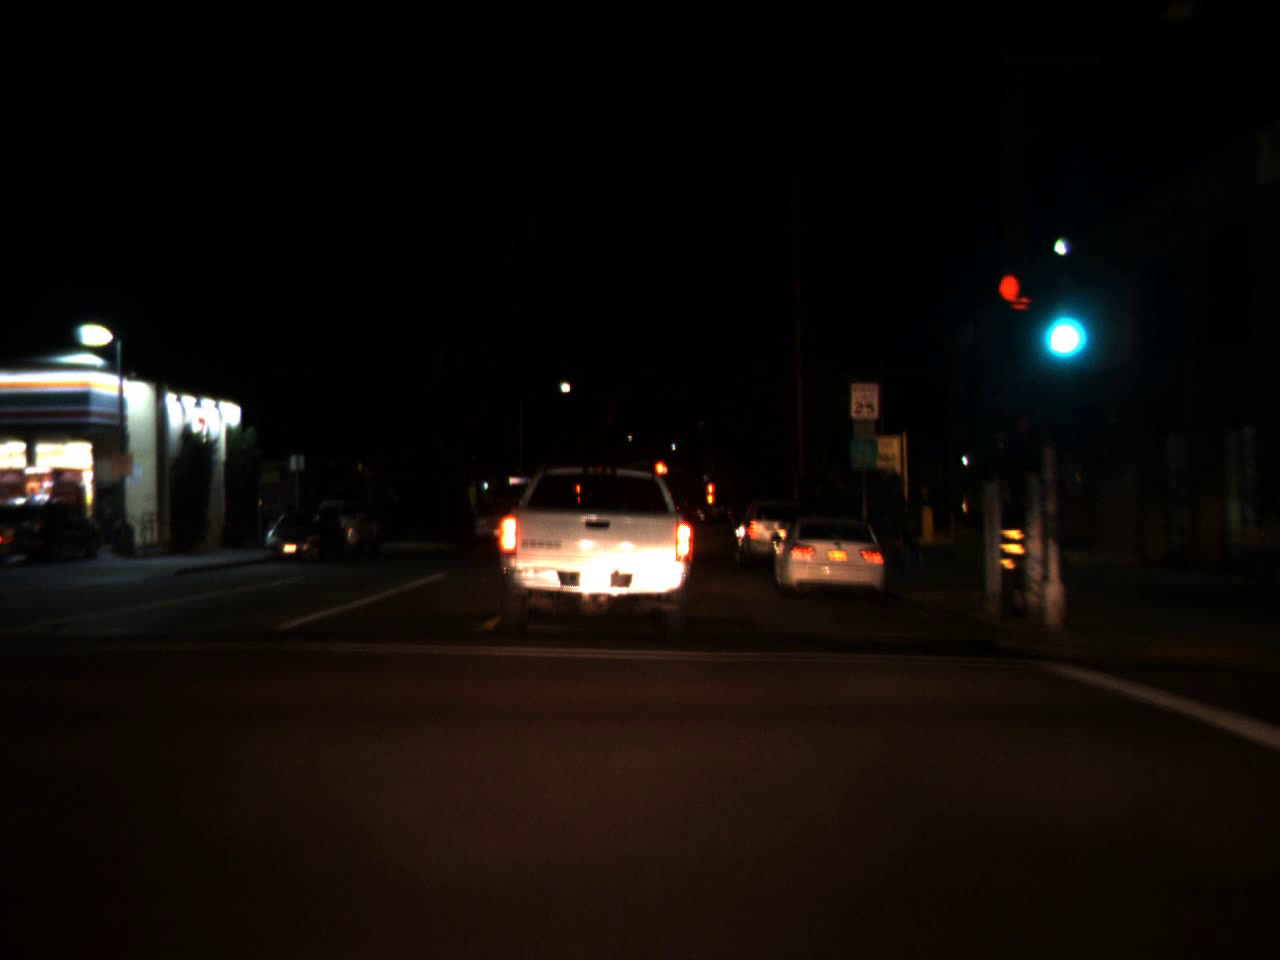go: (1035, 281, 1085, 368)
stop: (653, 460, 668, 489), (706, 483, 713, 504)
